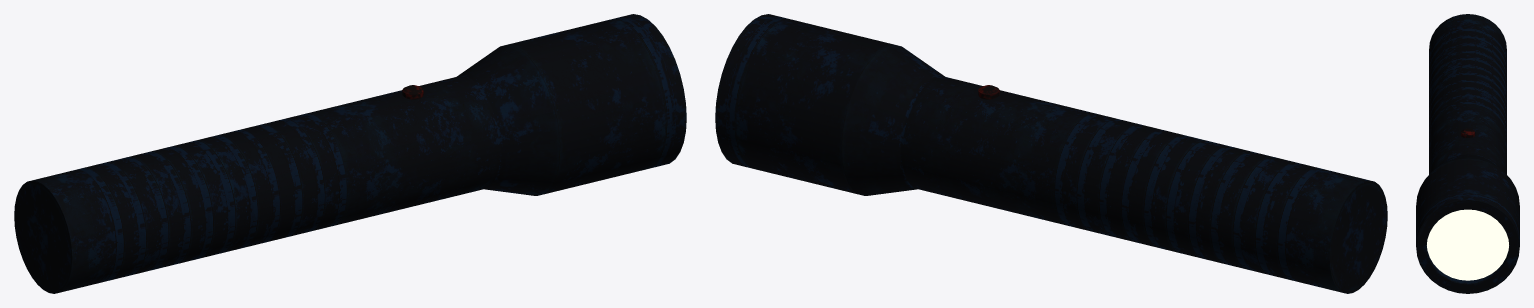
The picture shows the model from 3 angles, left to right: view 1: azimuth 30°, elevation 25°; view 2: azimuth 150°, elevation 25°; view 3: azimuth 270°, elevation 25°; orthographic projection. The views are drawn at different scales.
Parts seen in each view (by area): view 1: Flashlight_low; view 2: Flashlight_low; view 3: Flashlight_low, Button_low.
Part boxes in pixels (left/top/right/bottom): Flashlight_low: left=14, top=14, right=686, bottom=293; Flashlight_low: left=715, top=14, right=1387, bottom=293; Flashlight_low: left=1416, top=14, right=1519, bottom=293; Button_low: left=1460, top=128, right=1475, bottom=137.
Bounding box in the file's own units: 2 × 0.4434 × 0.4434.
1 material, 1 textured.
